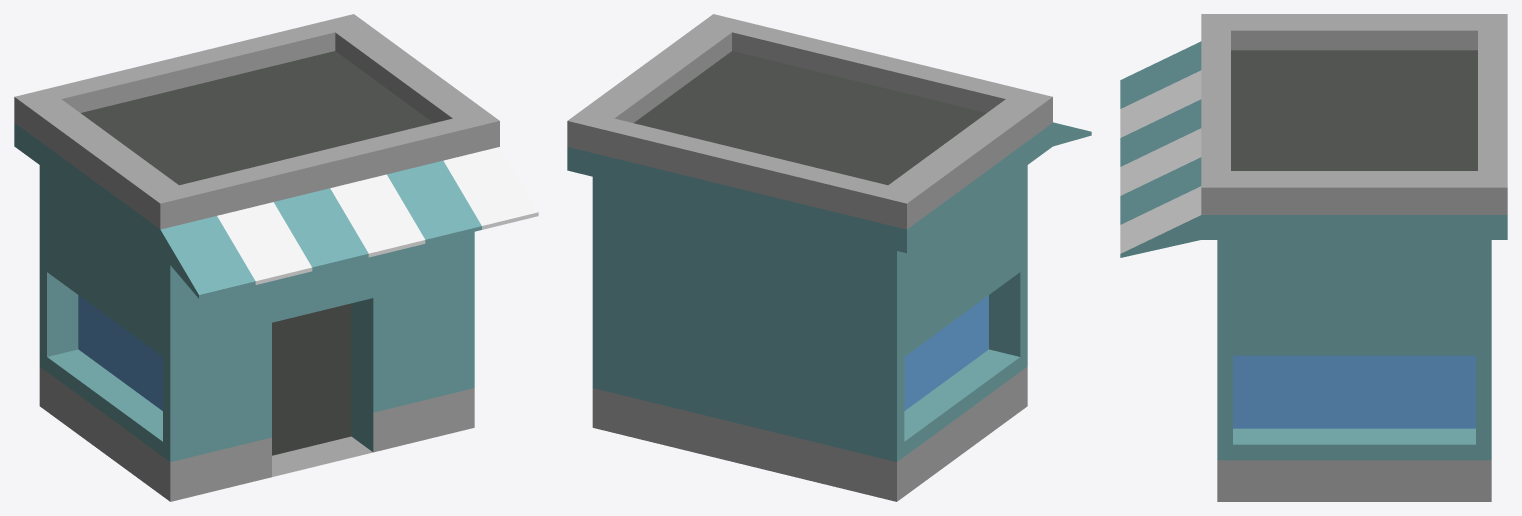
File: building_1x1_1_g_aqua.glb
3 views of the same model, side by side, from view 1: azimuth 30°, elevation 25°; view 2: azimuth 150°, elevation 25°; view 3: azimuth 270°, elevation 25° (orthographic). The views are drawn at different scales.
Visible parts, largest first — view 1: Cube; view 2: Cube; view 3: Cube.
Boxes of the visible parts, bbox=[...] form: Cube: bbox=[14, 14, 538, 501]; Cube: bbox=[567, 14, 1091, 501]; Cube: bbox=[1120, 14, 1507, 501].
Bounding box in the file's own units: 1.79 × 1.55 × 1.68.
